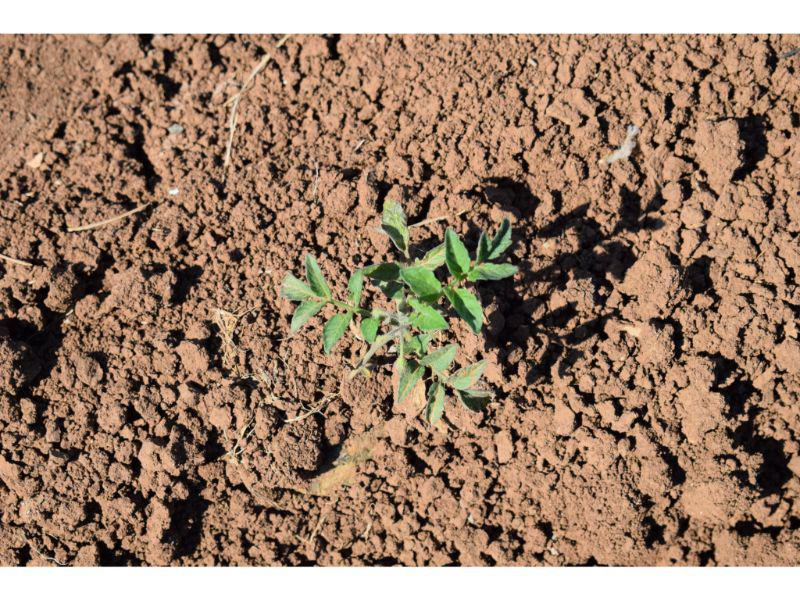tomato: (282, 201, 519, 427)
